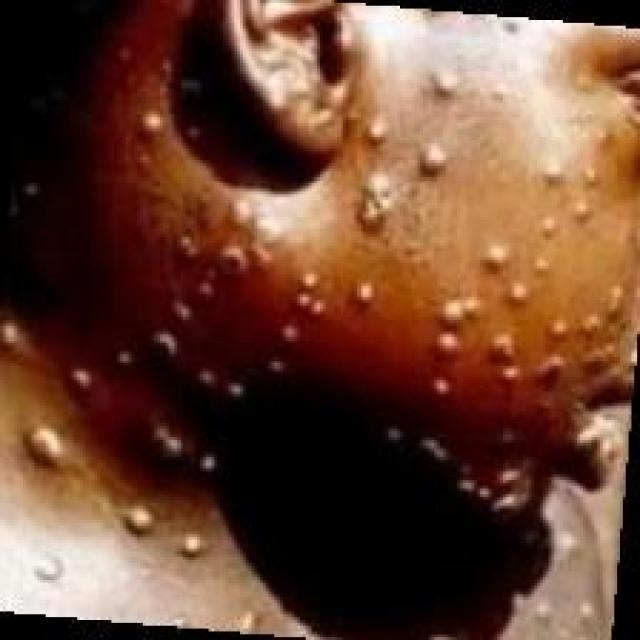monkeypox: (77, 13, 620, 640)
